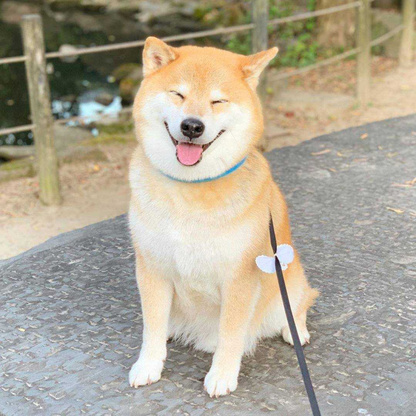shiba: (114, 33, 324, 400)
